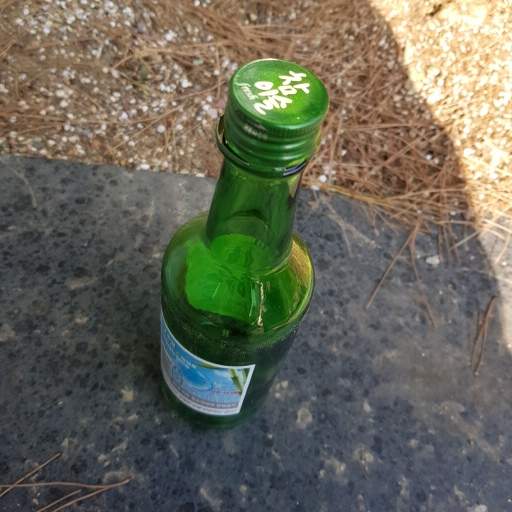Glass_0: (157, 55, 328, 425)
